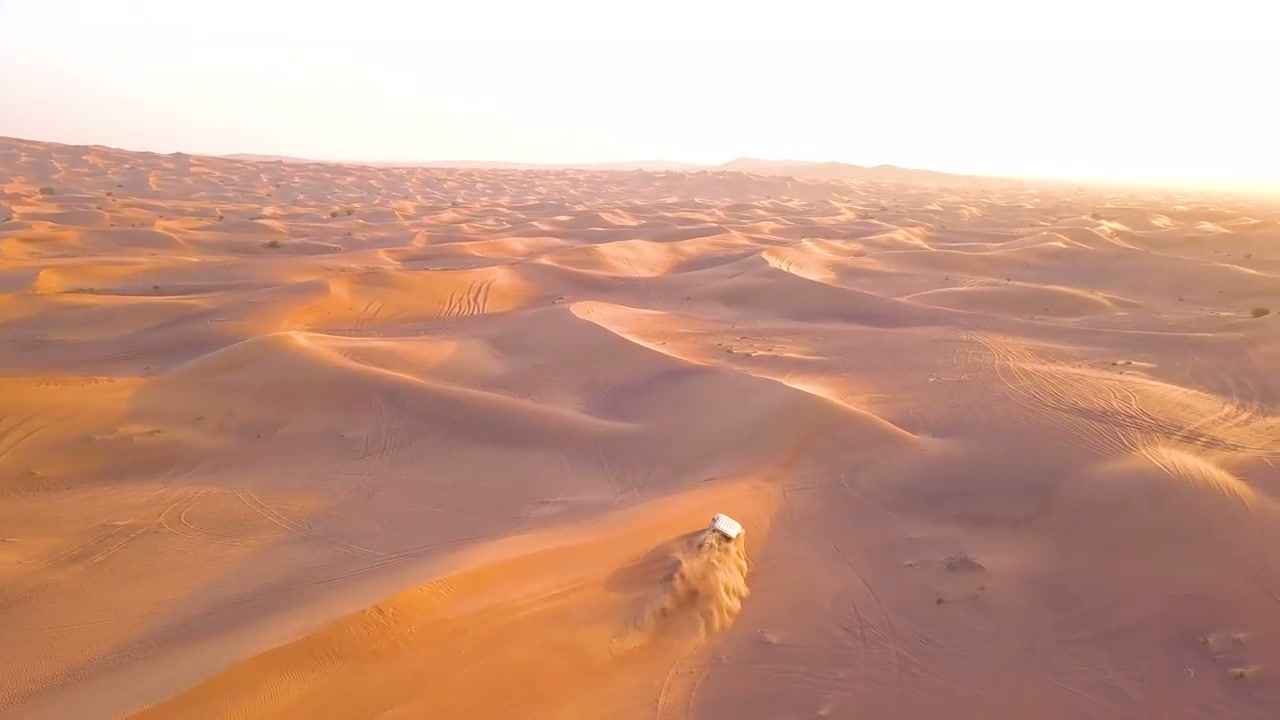vehicle_track: (959, 344, 1270, 498), (639, 606, 948, 719), (426, 271, 515, 344)
